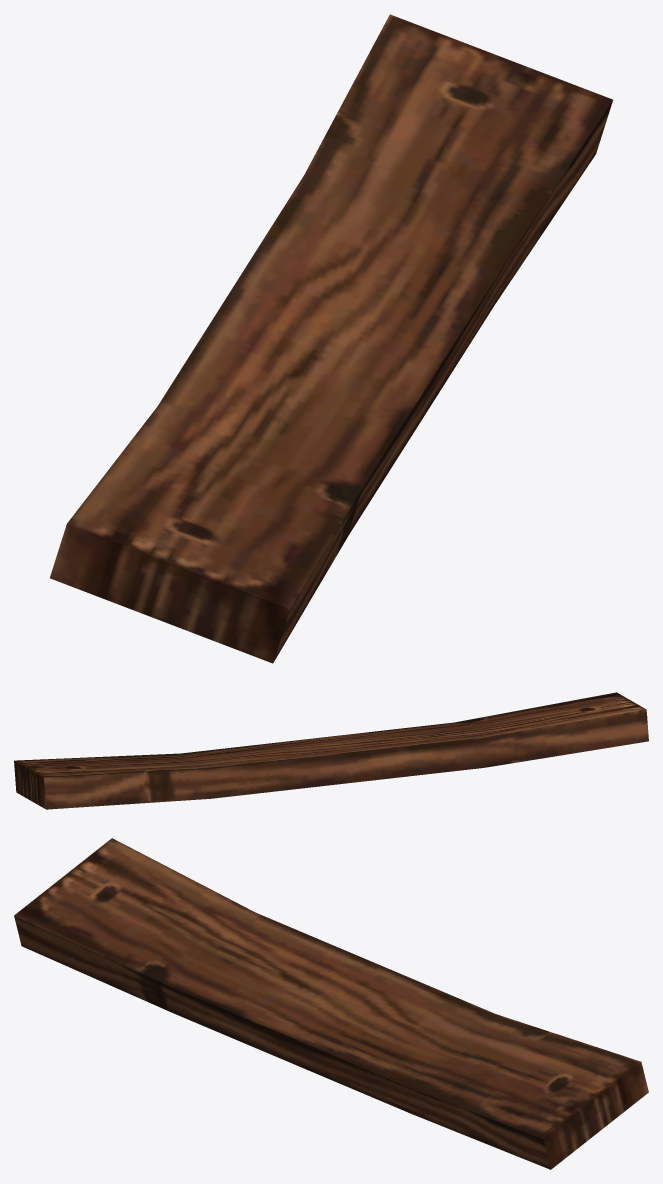
Rendered from OVERHILL_A_01_WOOD_BOARD_30.fbx.
3 renders of one model, top to bottom at view 1: azimuth 30°, elevation 25°; view 2: azimuth 150°, elevation 25°; view 3: azimuth 270°, elevation 25°, orthographic. The views are drawn at different scales.
Parts seen in each view (by area): view 1: OVERHILL_A_01_WOOD_BOARD_30; view 2: OVERHILL_A_01_WOOD_BOARD_30; view 3: OVERHILL_A_01_WOOD_BOARD_30.
Boxes of the visible parts, x1=… form: OVERHILL_A_01_WOOD_BOARD_30: x1=50, y1=14, x2=612, y2=663; OVERHILL_A_01_WOOD_BOARD_30: x1=14, y1=692, x2=648, y2=809; OVERHILL_A_01_WOOD_BOARD_30: x1=14, y1=838, x2=648, y2=1169.
Bounding box in the file's own units: 15489 × 2089 × 15489.
1 material, 1 textured.
